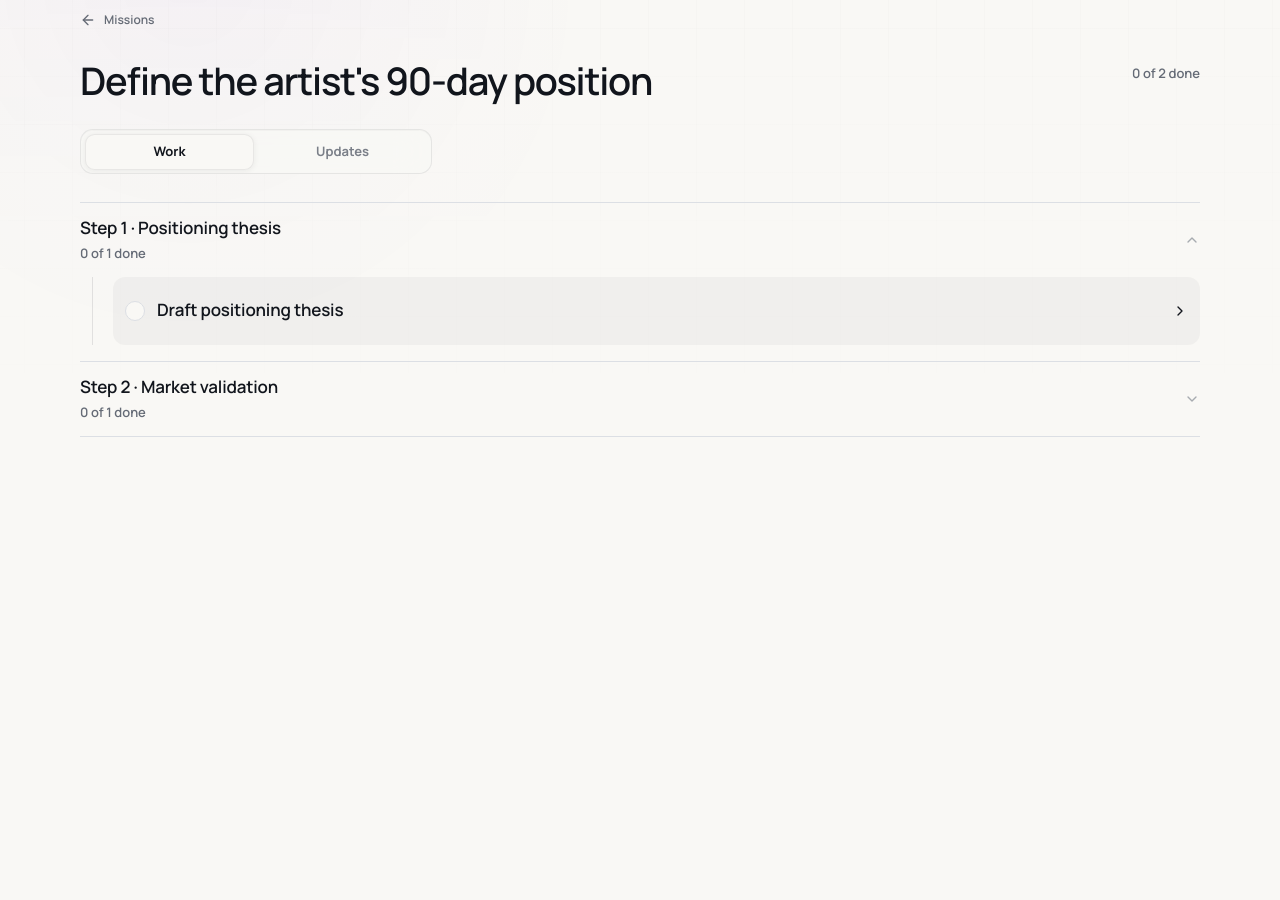
mobile-first mission workspace › keeps future-stage work visible but non-actionable until its dependency clears
Click the button "Step 2 · Market validation 0 of 1 done". click: (105, 386)
box: [80,362,1200,436]
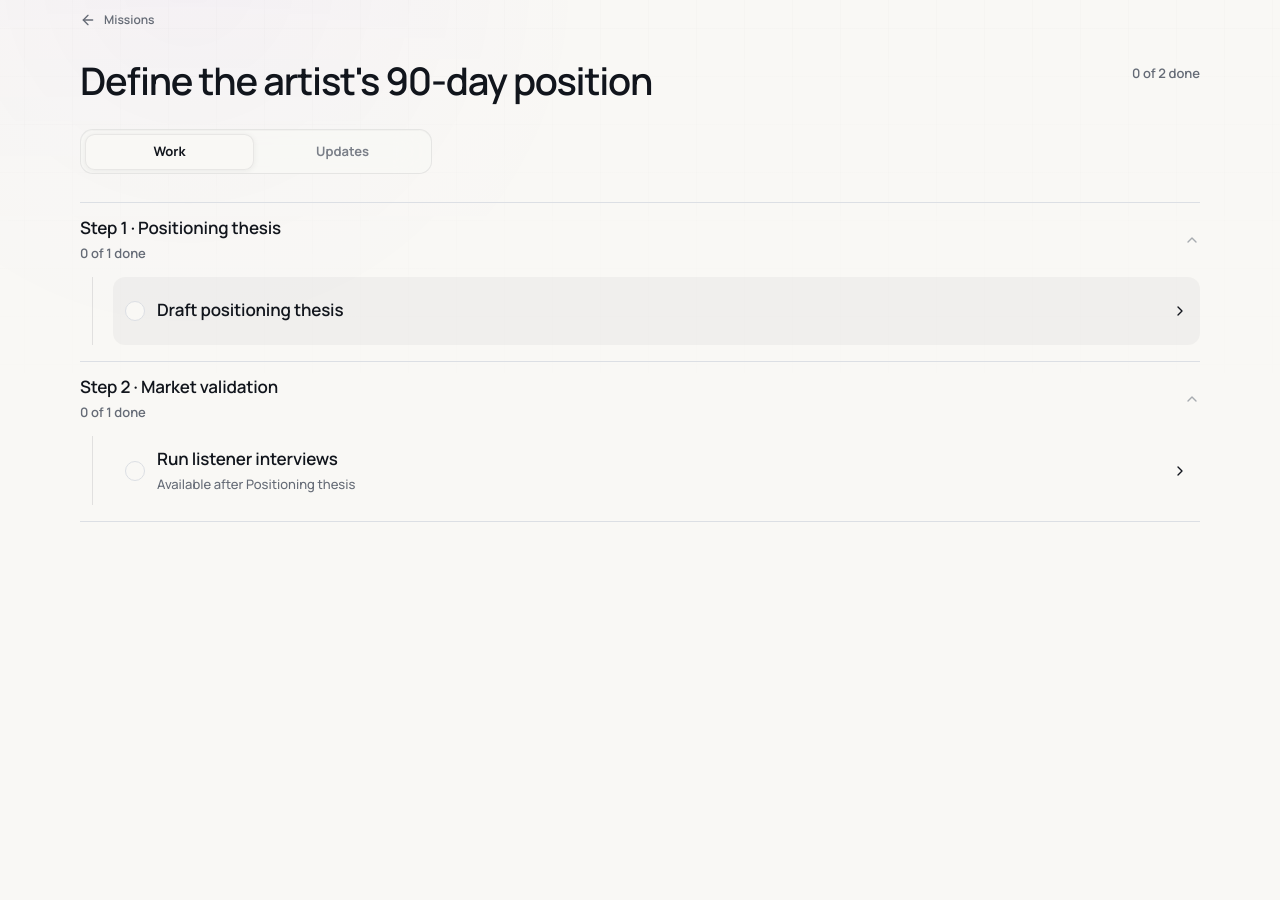
Now the button "Run listener interviews Available after Positioning thesis" is enabled
Now the text "Available after Positioning thesis" is shown, box [157,475,355,493]
Click the button "Run listener interviews Available after Positioning thesis". click: (247, 458)
box: [113,436,1200,505]
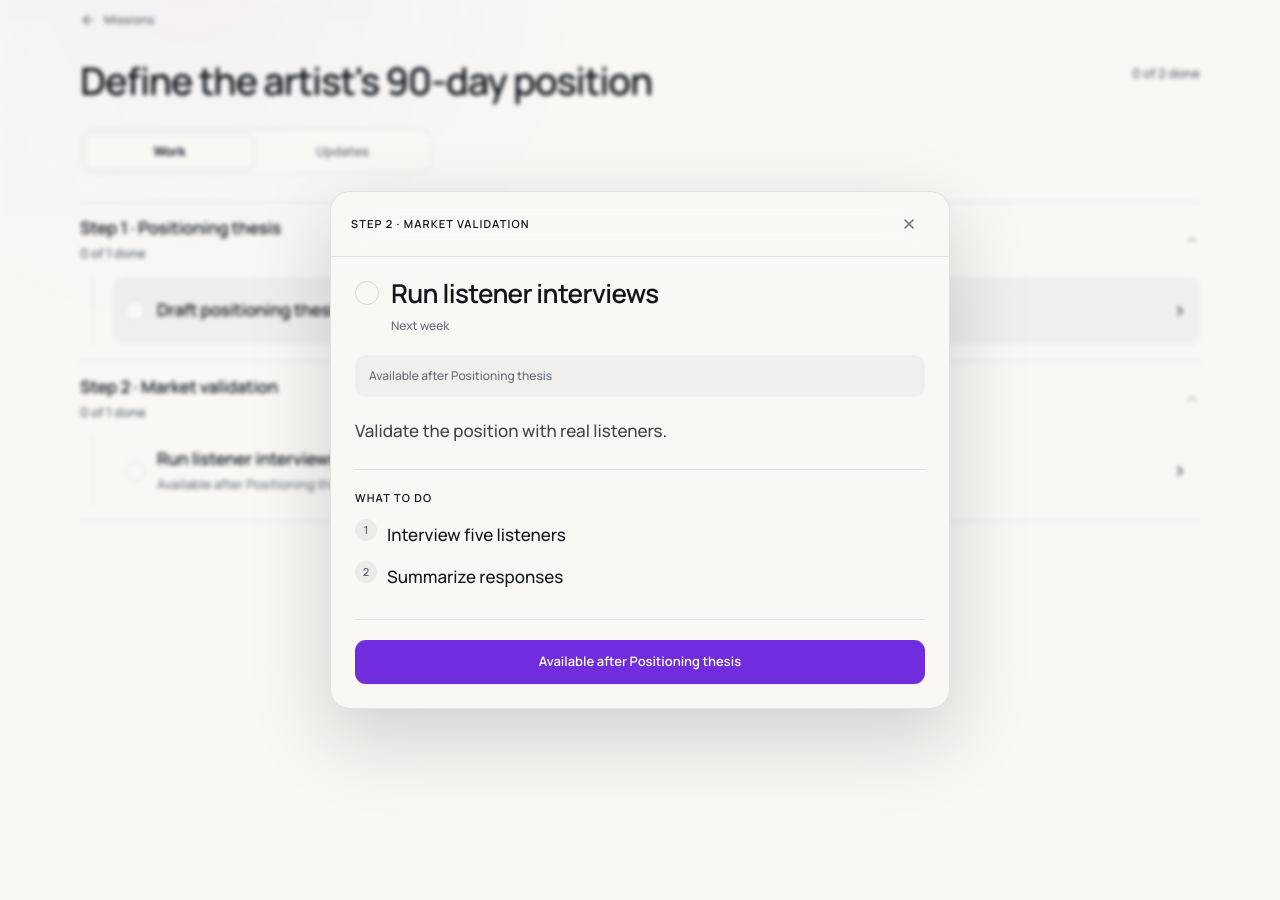
Now the text "Available after Positioning thesis" is shown 2 times, box [355,355,925,397]; [539,652,741,672]
Now the button "Available after Positioning thesis" is disabled, box [355,640,925,684]
